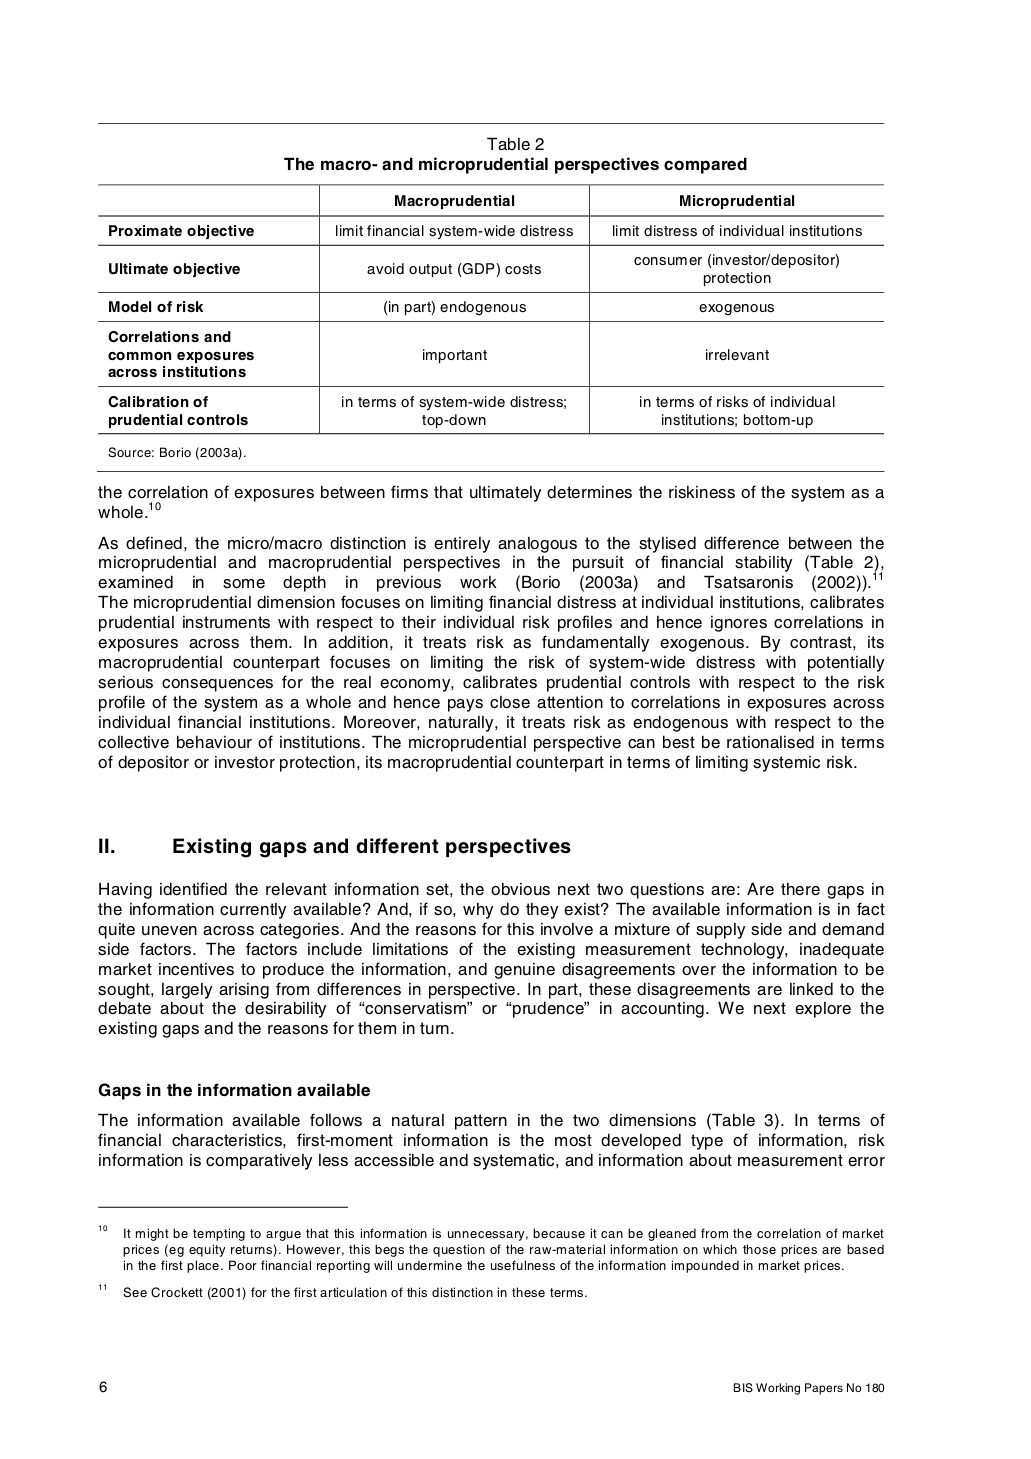Table: (98, 182, 883, 435)
